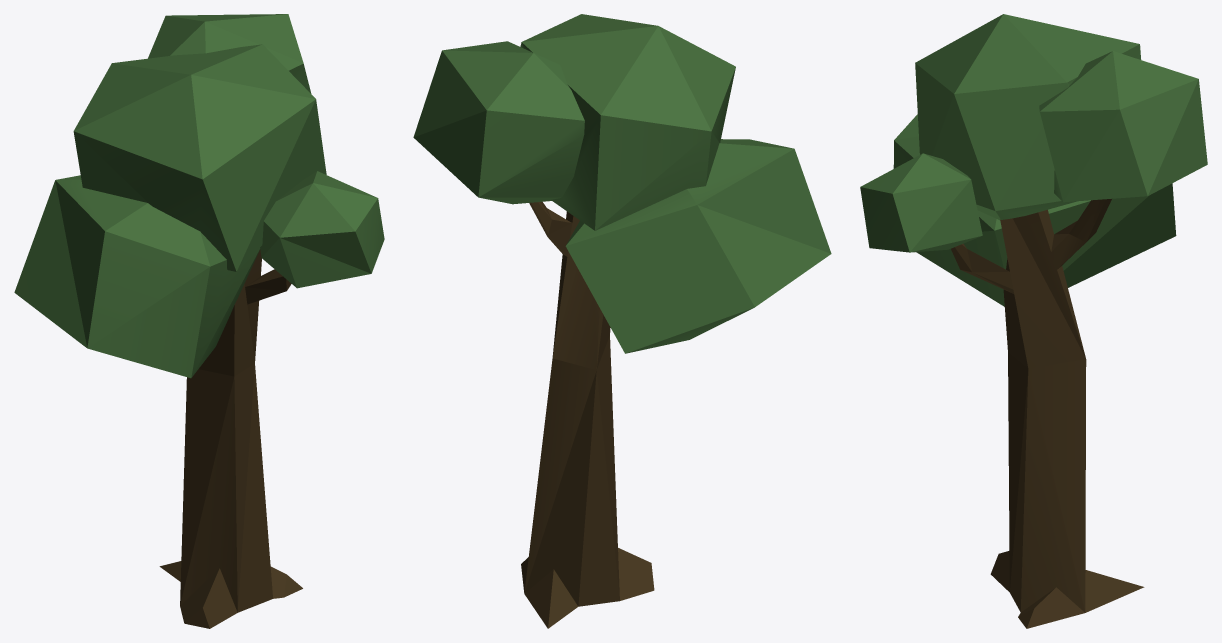
The model's file is tree_03.FBX.
3 views of the same model, side by side, from view 1: azimuth 30°, elevation 25°; view 2: azimuth 150°, elevation 25°; view 3: azimuth 270°, elevation 25° (orthographic).
Visible parts, largest first — view 1: Tree_03; view 2: Tree_03; view 3: Tree_03.
Part boxes in pixels (left/top/right/bottom): Tree_03: left=14, top=14, right=384, bottom=628; Tree_03: left=413, top=14, right=831, bottom=628; Tree_03: left=860, top=14, right=1207, bottom=628.
Bounding box in the file's own units: 596 × 1025 × 583.
